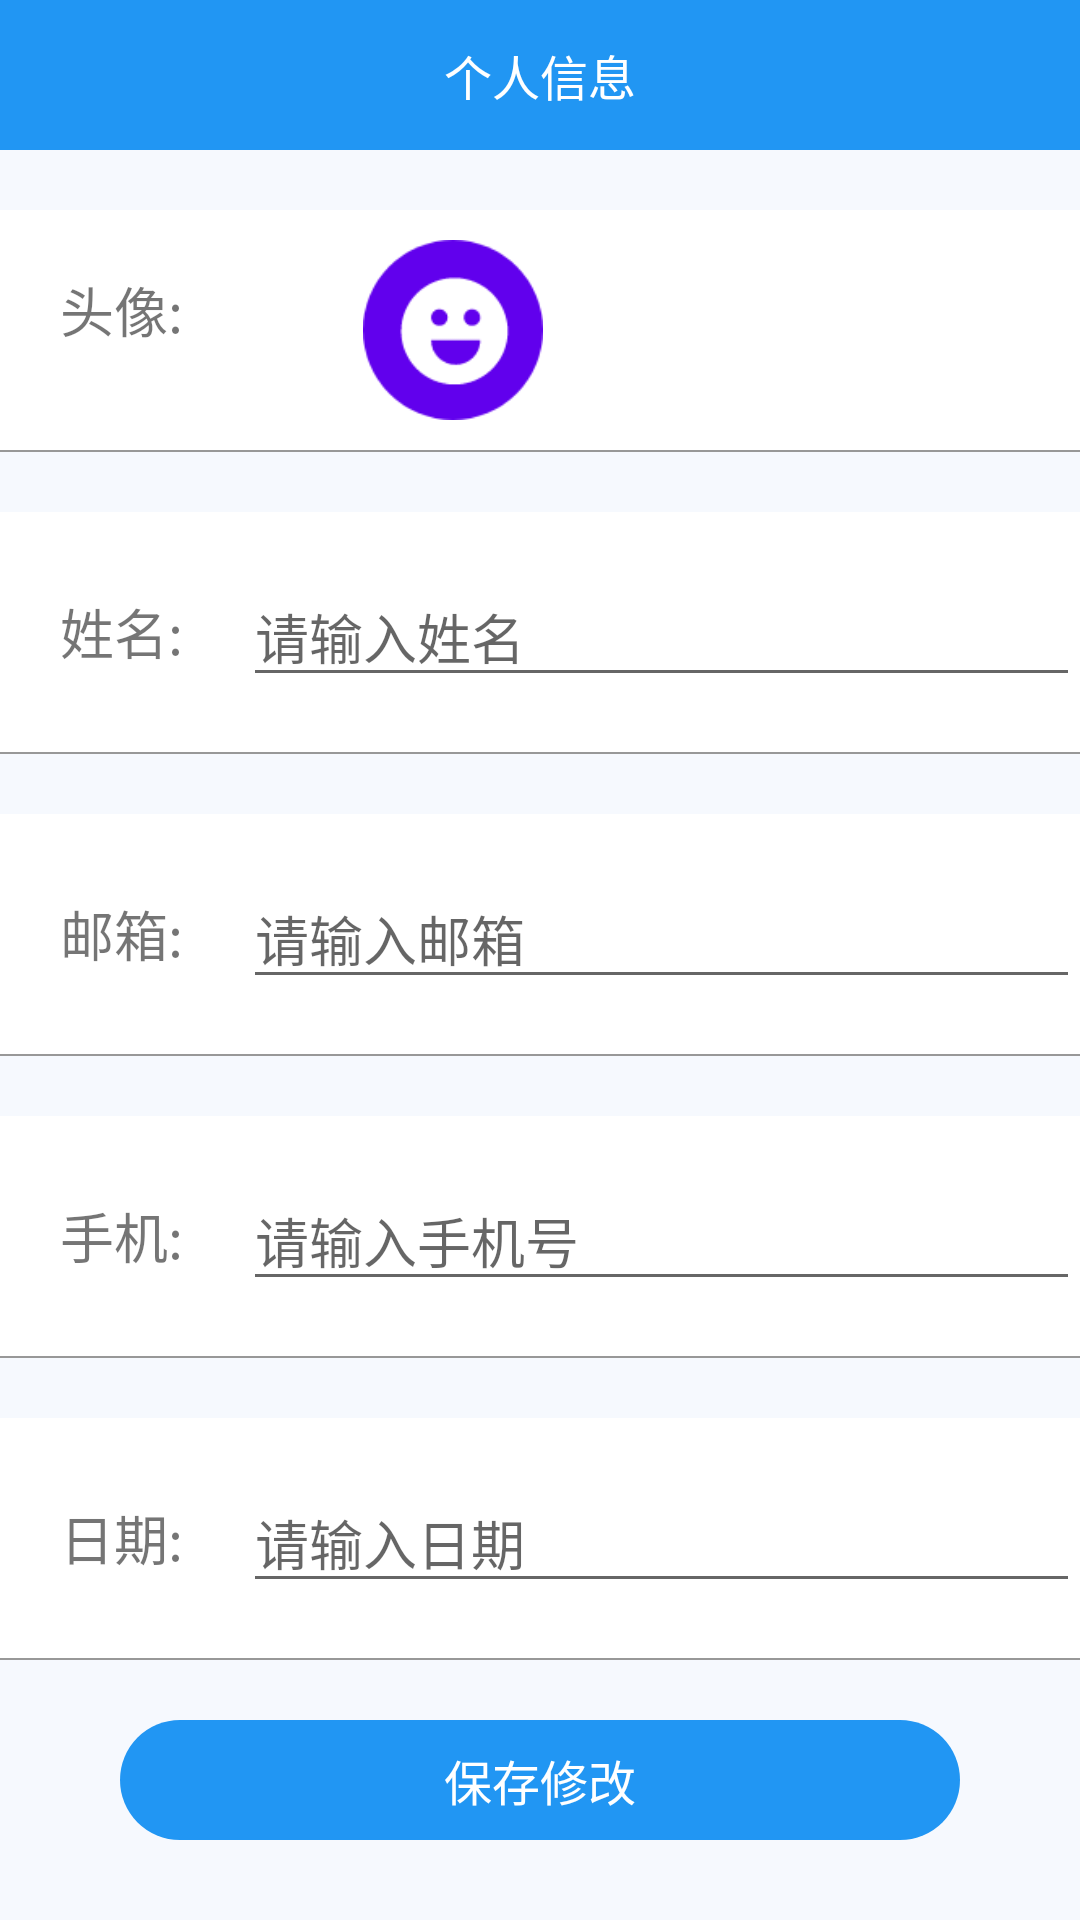

Where icons sit on this 1080px x 1920px app screen, as region(x1, y1, x2, y2):
myhead: region(363, 240, 543, 420)
